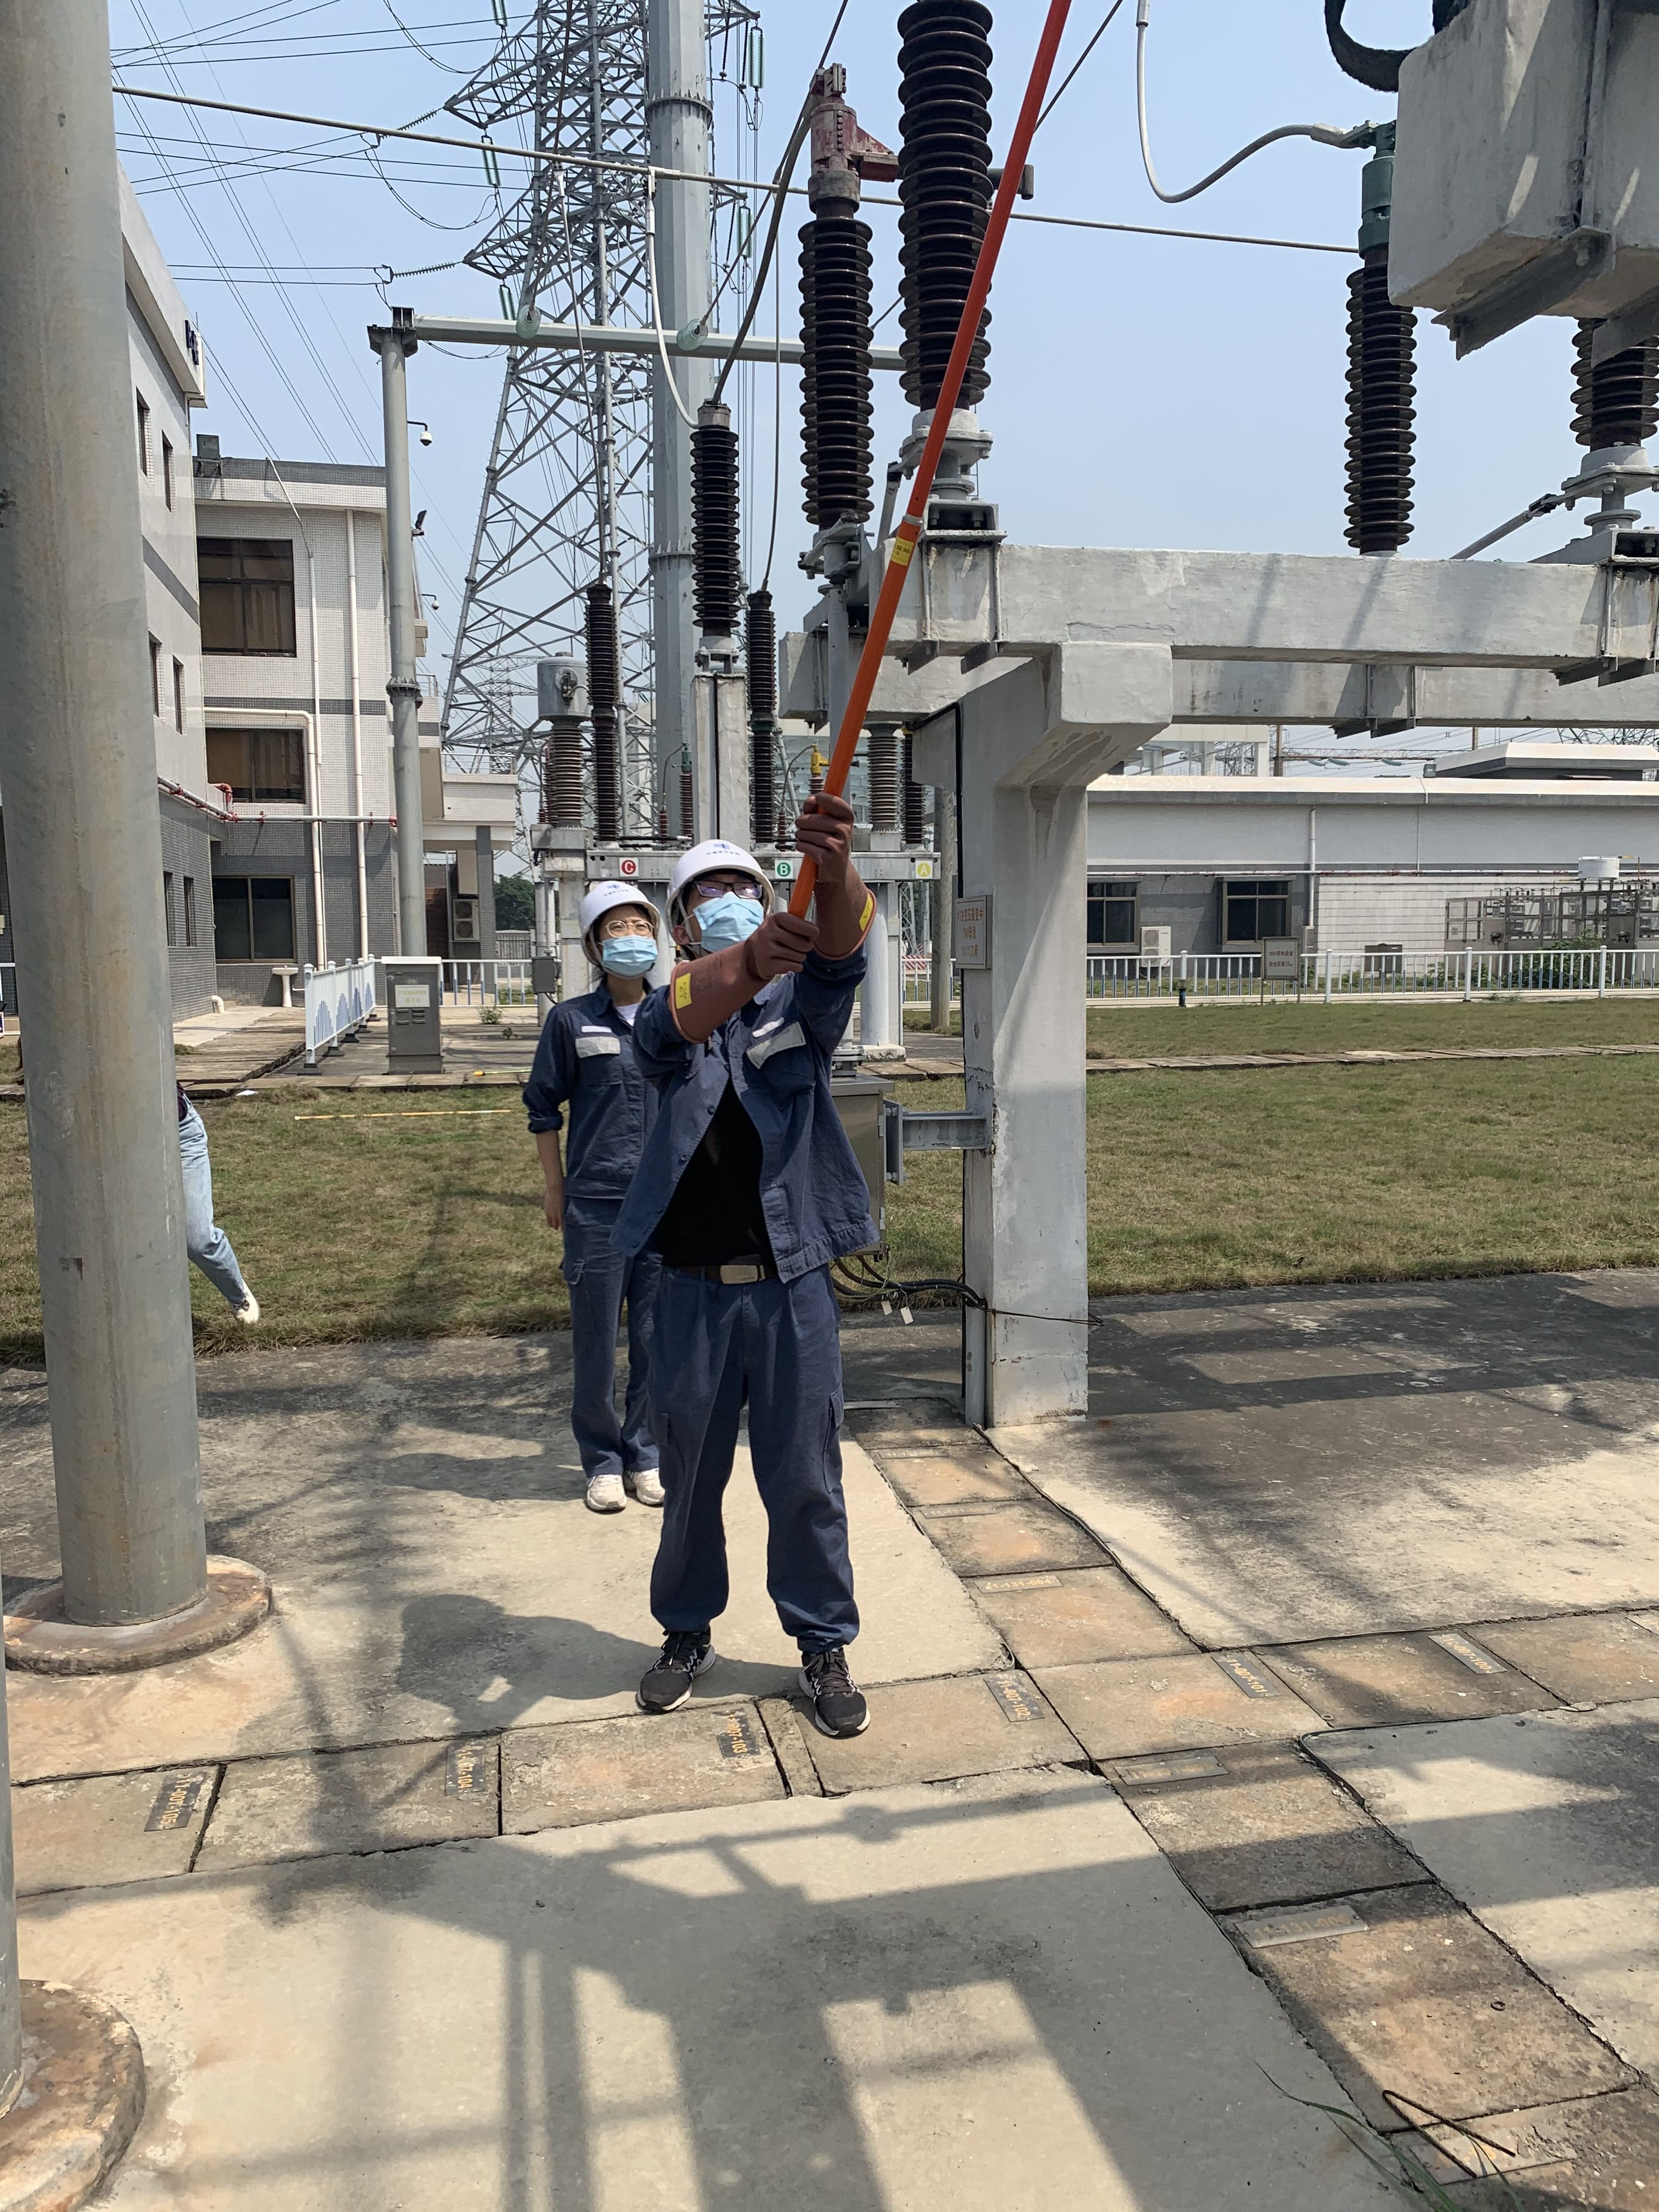downsuit: (639, 1289, 868, 1644), (560, 1264, 636, 1471)
halt: (661, 837, 782, 980), (571, 875, 668, 993)
hand: (541, 1186, 565, 1224)
inear: (667, 910, 698, 950), (582, 927, 608, 969)
longglove: (660, 907, 819, 1042), (789, 797, 874, 970)
operatingbar: (781, 1, 1097, 911)
person: (635, 799, 892, 1724), (510, 870, 662, 1521)
upsuit: (628, 969, 886, 1261), (523, 989, 639, 1201)
wrongsuit: (639, 1052, 812, 1283)
wrongtop: (528, 1116, 566, 1229)
